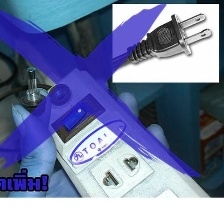three_eye_plug: (29, 59, 224, 224)
